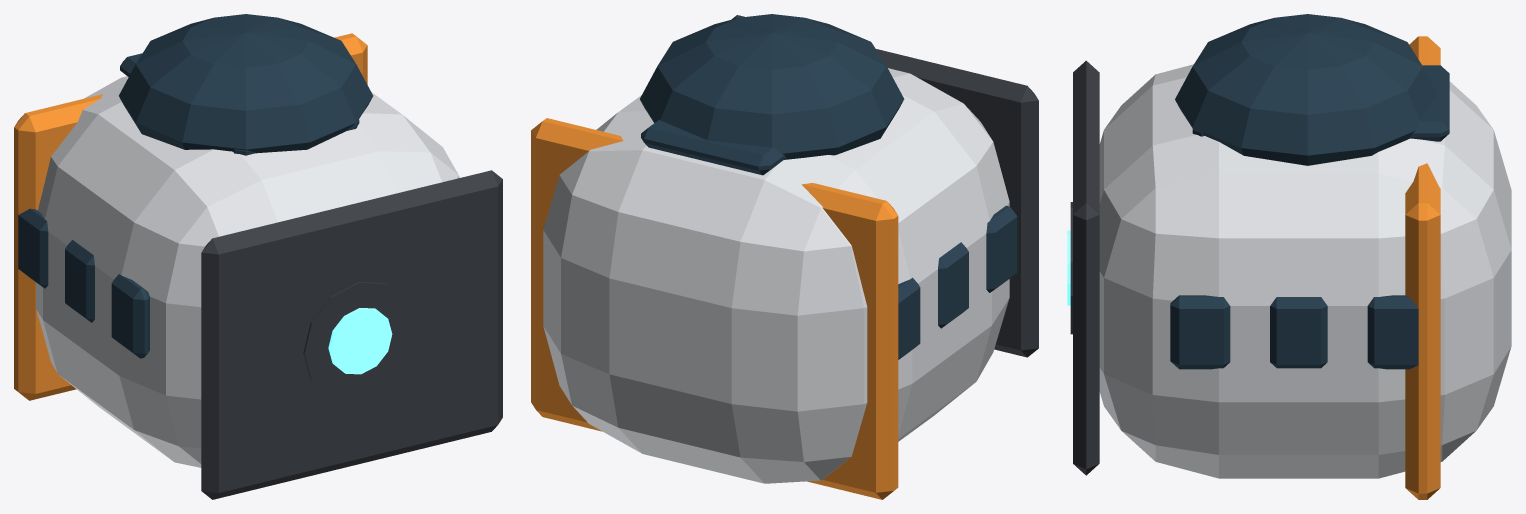
Rendered from mess_hall.glb.
3 views of the same model, side by side, from view 1: azimuth 30°, elevation 25°; view 2: azimuth 150°, elevation 25°; view 3: azimuth 270°, elevation 25° (orthographic). The views are drawn at different scales.
Parts seen in each view (by area): view 1: mess_hall; view 2: mess_hall; view 3: mess_hall.
Boxes of the visible parts, left/top/right/bottom form: mess_hall: left=14, top=14, right=502, bottom=499; mess_hall: left=531, top=14, right=1038, bottom=499; mess_hall: left=1067, top=14, right=1511, bottom=499.
Bounding box in the file's own units: 0.95 × 1 × 1.
